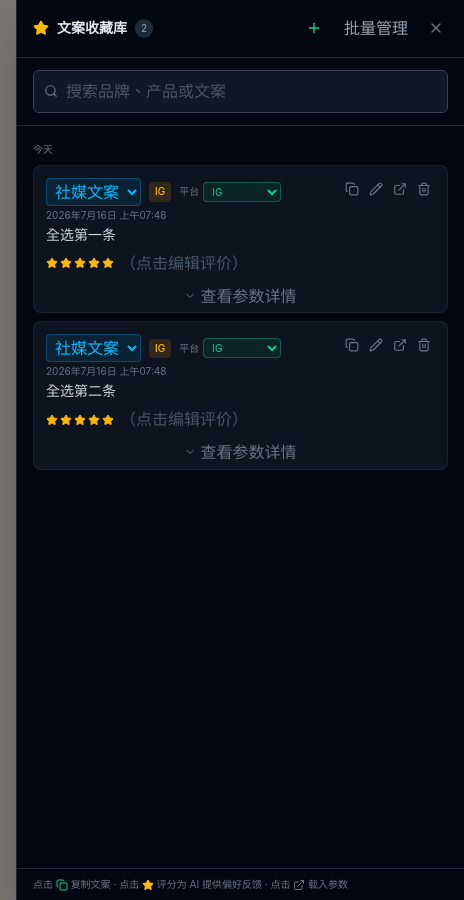
it: 收藏库批量删除 › 支持全选当前收藏，退出多选会清空选择
This screenshot has width=464, height=900.
Click the button "批量管理".
click(376, 28)  # box [336, 12, 416, 45]
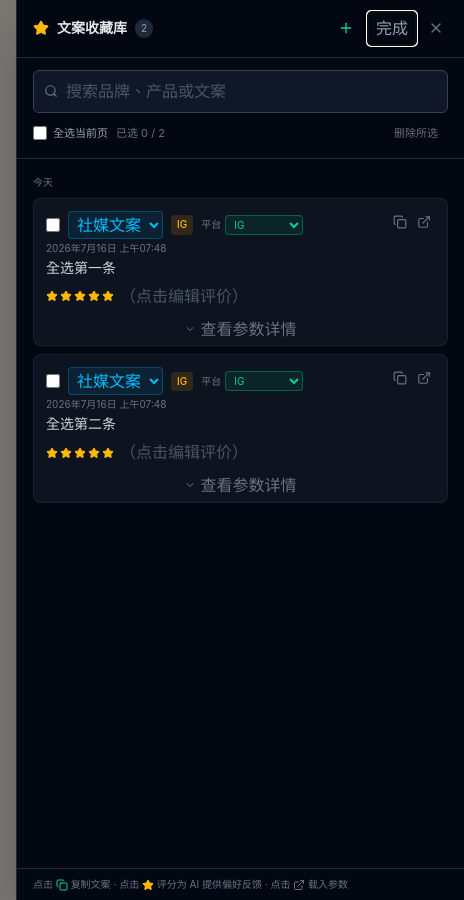
Click the checkbox named "全选当前收藏".
click(40, 133)  # box [33, 126, 47, 140]
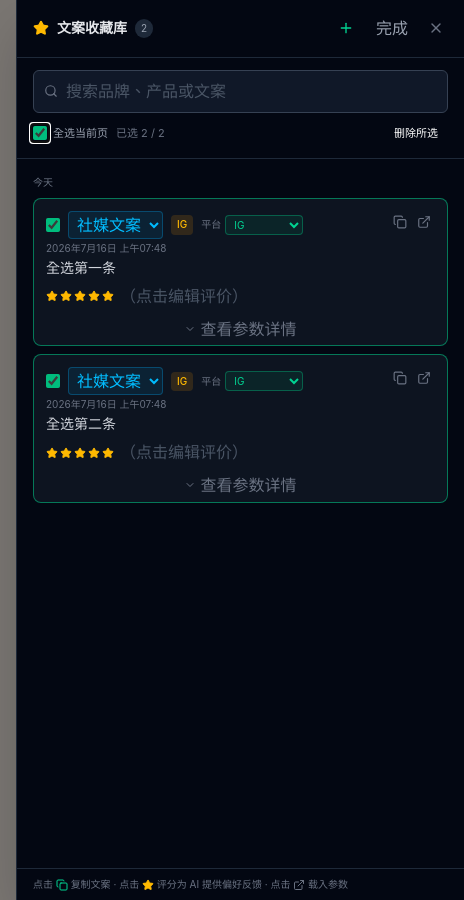
expect the text "已选 2 / 2" is shown: met, box [116, 125, 165, 142]
Click the button "完成".
click(392, 28)  # box [368, 12, 416, 45]
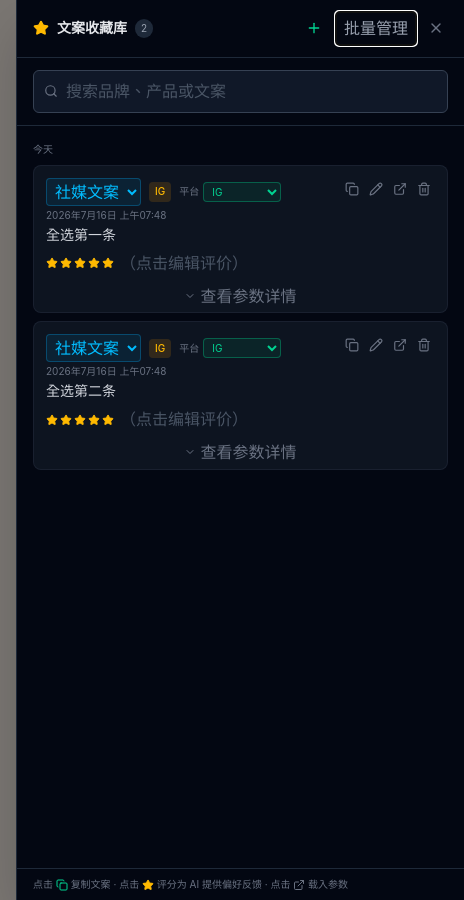
expect the text "已选 2 / 2" is gone: met
